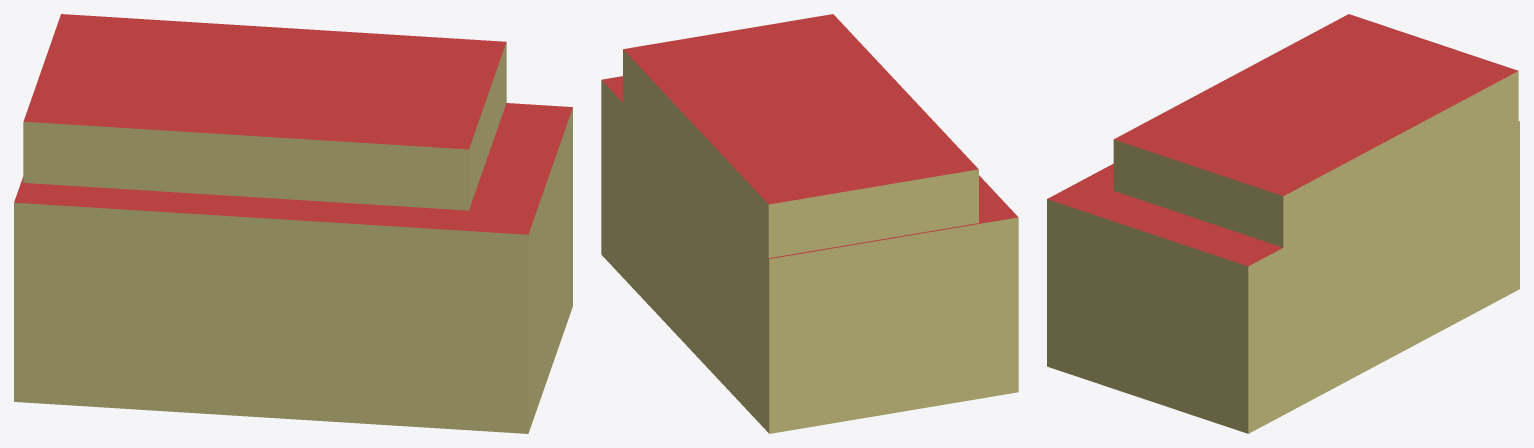
The picture shows the model from 3 angles, left to right: view 1: azimuth 30°, elevation 25°; view 2: azimuth 150°, elevation 25°; view 3: azimuth 270°, elevation 25°; orthographic projection. The views are drawn at different scales.
Parts seen in each view (by area): view 1: group_4, group_6, group_7, group_3; view 2: group_4, group_6, group_7, group_3; view 3: group_4, group_6, group_7, group_3.
Part boxes in pixels (x1=…): group_4: x1=14, y1=108, x2=572, y2=433; group_6: x1=23, y1=14, x2=506, y2=149; group_7: x1=23, y1=42, x2=506, y2=210; group_3: x1=14, y1=103, x2=572, y2=234; group_4: x1=601, y1=80, x2=1018, y2=433; group_6: x1=623, y1=14, x2=978, y2=204; group_7: x1=623, y1=49, x2=978, y2=257; group_3: x1=601, y1=76, x2=1017, y2=258; group_4: x1=1047, y1=122, x2=1519, y2=433; group_6: x1=1114, y1=14, x2=1518, y2=196; group_7: x1=1113, y1=71, x2=1518, y2=247; group_3: x1=1047, y1=121, x2=1519, y2=266.
Bounding box in the file's own units: 25.46 × 23.98 × 12.25.
